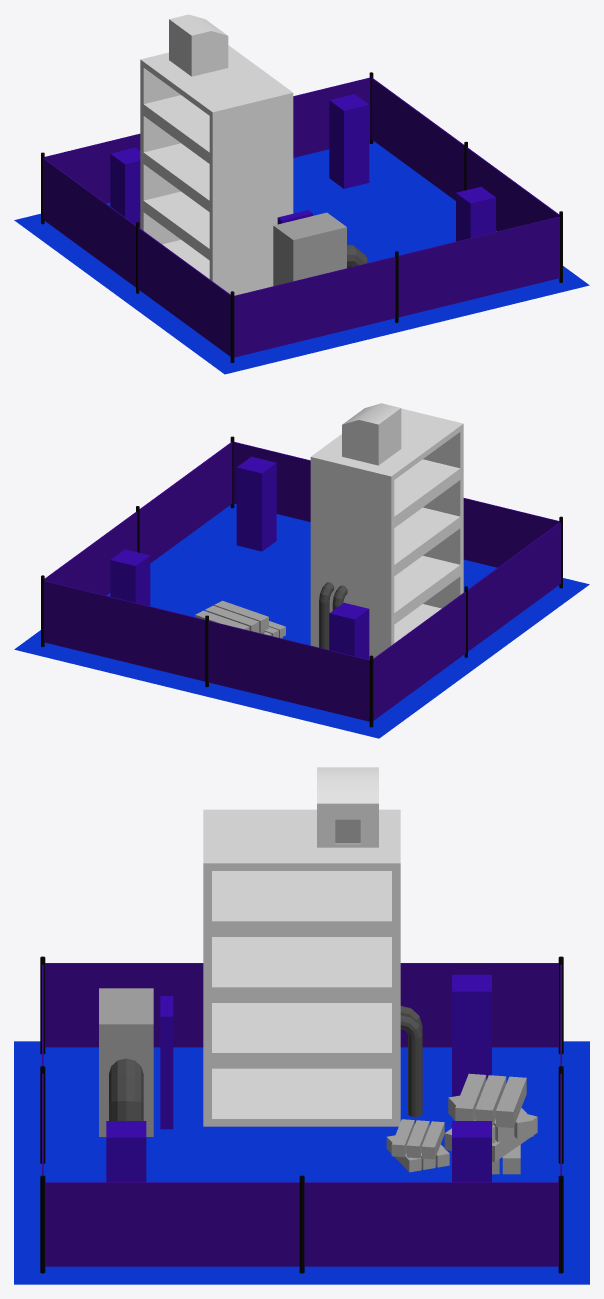
File: 1010_blue.fbx
3 views of the same model, one above another, from view 1: azimuth 30°, elevation 25°; view 2: azimuth 150°, elevation 25°; view 3: azimuth 270°, elevation 25° (orthographic). The views are drawn at different scales.
Parts seen in each view (by area): view 1: pCube229, ten_ten5, pCube227, pCube228, pCube217, pCube222, pCube225, pCube233, pCube239, pCube226, pCube224, pCube241 (+3 smaller); view 2: pCube229, ten_ten5, pCube224, pCube223, pCube217, pCube222, pCube226, pCube228, pCube238, pCube225, pCube241, pCube227 (+5 smaller); view 3: pCube229, ten_ten5, pCube225, pCube226, pCube222, pCube217, pCube233, pCube241, pCube240, pCube238, pCube239, pCylinder44 (+5 smaller).
Boxes of the visible parts, bbox=[...] form: pCube229: bbox=[140, 45, 293, 295]; ten_ten5: bbox=[14, 139, 589, 374]; pCube227: bbox=[398, 216, 559, 317]; pCube228: bbox=[234, 256, 395, 357]; pCube217: bbox=[138, 227, 230, 356]; pCube222: bbox=[43, 158, 135, 287]; pCube225: bbox=[371, 78, 464, 200]; pCube233: bbox=[273, 212, 346, 286]; pCube239: bbox=[329, 94, 369, 188]; pCube226: bbox=[466, 147, 559, 231]; pCube224: bbox=[293, 77, 370, 157]; pCube241: bbox=[169, 14, 228, 76]; pCube229: bbox=[310, 408, 463, 659]; ten_ten5: bbox=[14, 503, 589, 738]; pCube224: bbox=[44, 580, 205, 681]; pCube223: bbox=[208, 621, 369, 721]; pCube217: bbox=[468, 522, 560, 651]; pCube222: bbox=[373, 592, 465, 720]; pCube226: bbox=[139, 442, 232, 563]; pCube228: bbox=[463, 498, 559, 567]; pCube238: bbox=[236, 456, 276, 551]; pCube225: bbox=[44, 511, 137, 595]; pCube241: bbox=[342, 403, 401, 465]; pCube227: bbox=[233, 442, 310, 521]; pCube229: bbox=[203, 809, 400, 1126]; ten_ten5: bbox=[14, 1041, 589, 1284]; pCube225: bbox=[304, 1182, 558, 1266]; pCube226: bbox=[45, 1182, 299, 1266]; pCube222: bbox=[400, 963, 558, 1047]; pCube217: bbox=[45, 963, 203, 1047]; pCube233: bbox=[99, 988, 153, 1136]; pCube241: bbox=[317, 767, 378, 847]; pCube240: bbox=[452, 974, 491, 1096]; pCube238: bbox=[106, 1121, 146, 1182]; pCube239: bbox=[452, 1121, 491, 1182]; pCylinder44: bbox=[109, 1058, 143, 1120].
Size of the model in its own units: 10 by 6.24 by 10.
